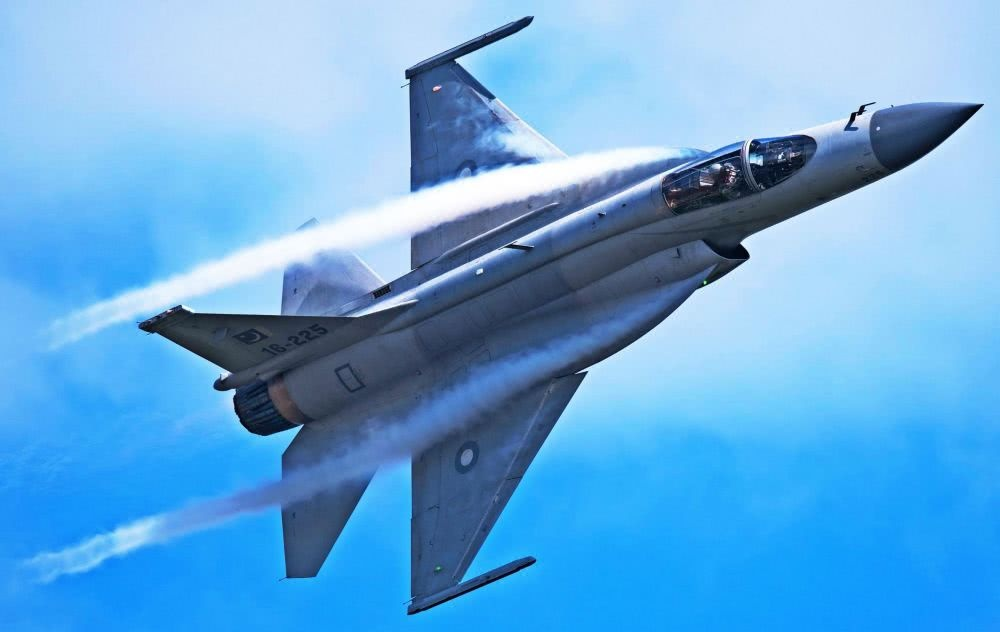airplane: (121, 13, 991, 615)
